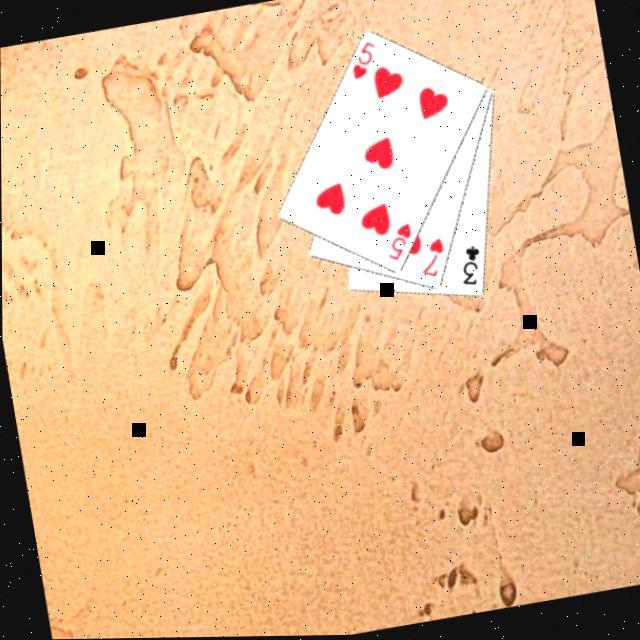3C: (452, 242, 484, 290)
5H: (343, 38, 381, 84), (378, 220, 416, 265)
7H: (412, 234, 448, 282)
